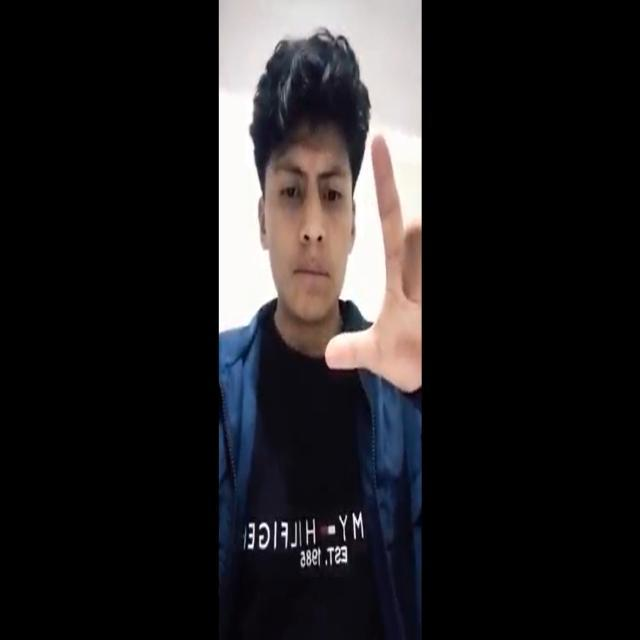L: (321, 115, 422, 405)
